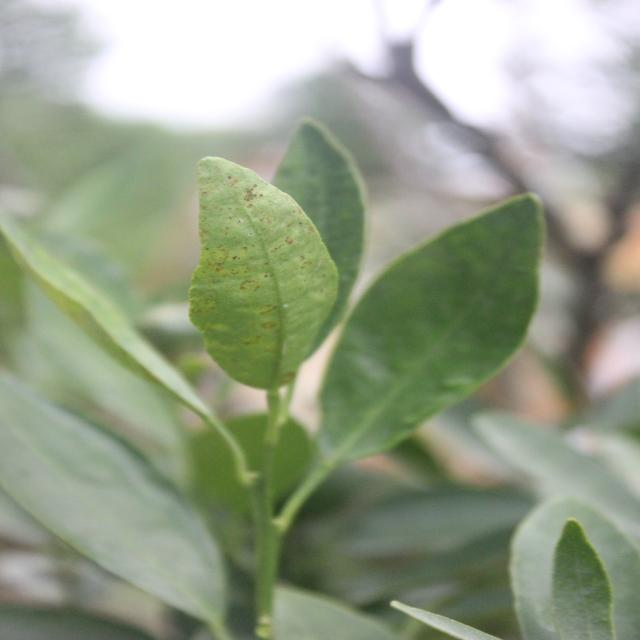canker: (191, 164, 330, 376)
